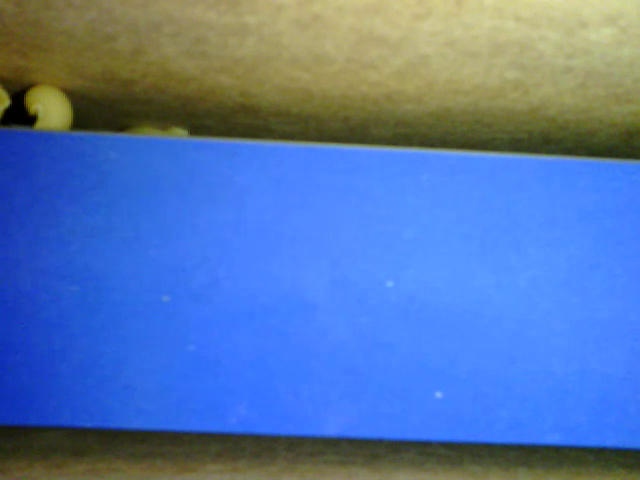shell: (22, 83, 73, 134)
